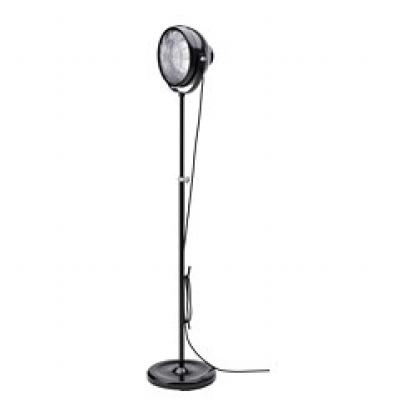Lamp: (130, 18, 223, 398)
